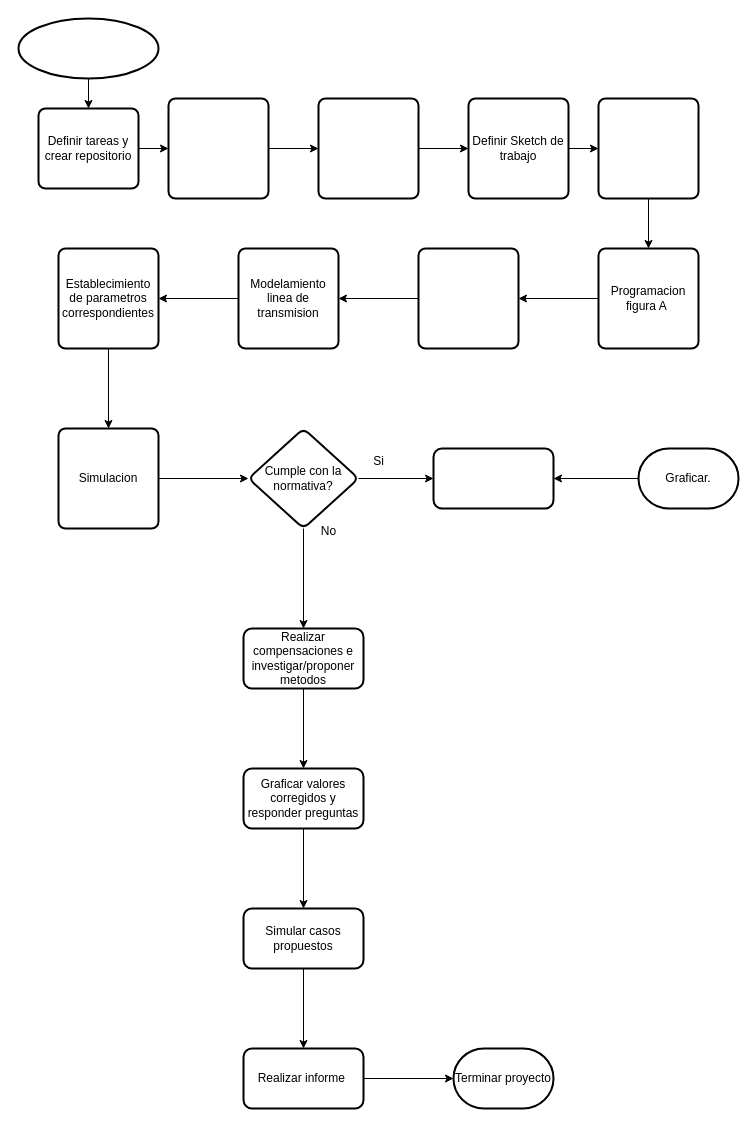
This 756x1126 diagram has some shape labels left out. The centre of each missing label's shape, as x and y in pixels:
"Definir tareas de cada individuo" belongs at (x=648, y=148).
"Establecer limites de normativa para el caso de estudio" belongs at (x=468, y=298).
"Establecer limites de trabajo por normativa eléctrica" belongs at (x=368, y=148).
"Iniciar proyecto" belongs at (x=88, y=48).
"Instalar programas y dependencias necesarias" belongs at (x=218, y=148).
"No necesitamos aplicar medidas" belongs at (x=493, y=478).
